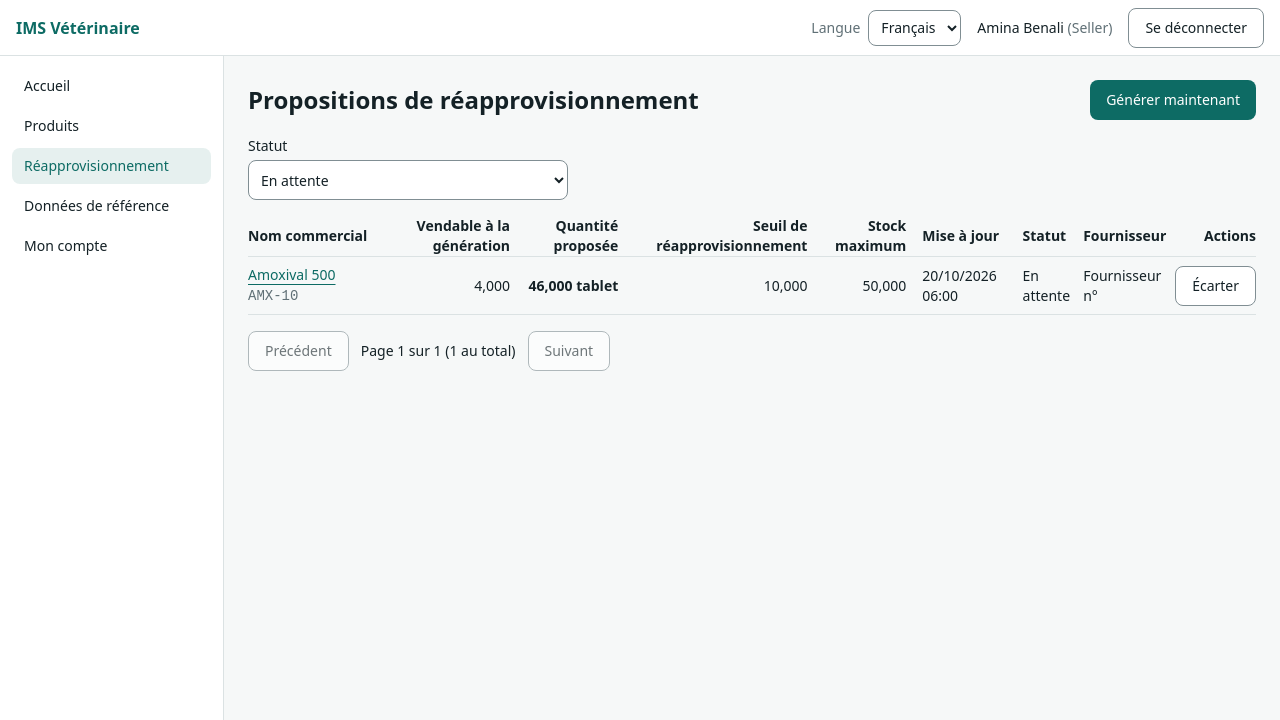
Test: reorder proposals (W10) › generates now, reports incomplete thresholds and dismisses a proposal
Expected: the row "Amoxival 500" shows "46,000 tablet", x1=528 y1=276 x2=618 y2=294
What coordinates should you click on to do the following:
click the button "Générer maintenant"
I would click on:
 (1173, 100)
Its box is x1=1090 y1=80 x2=1256 y2=120.
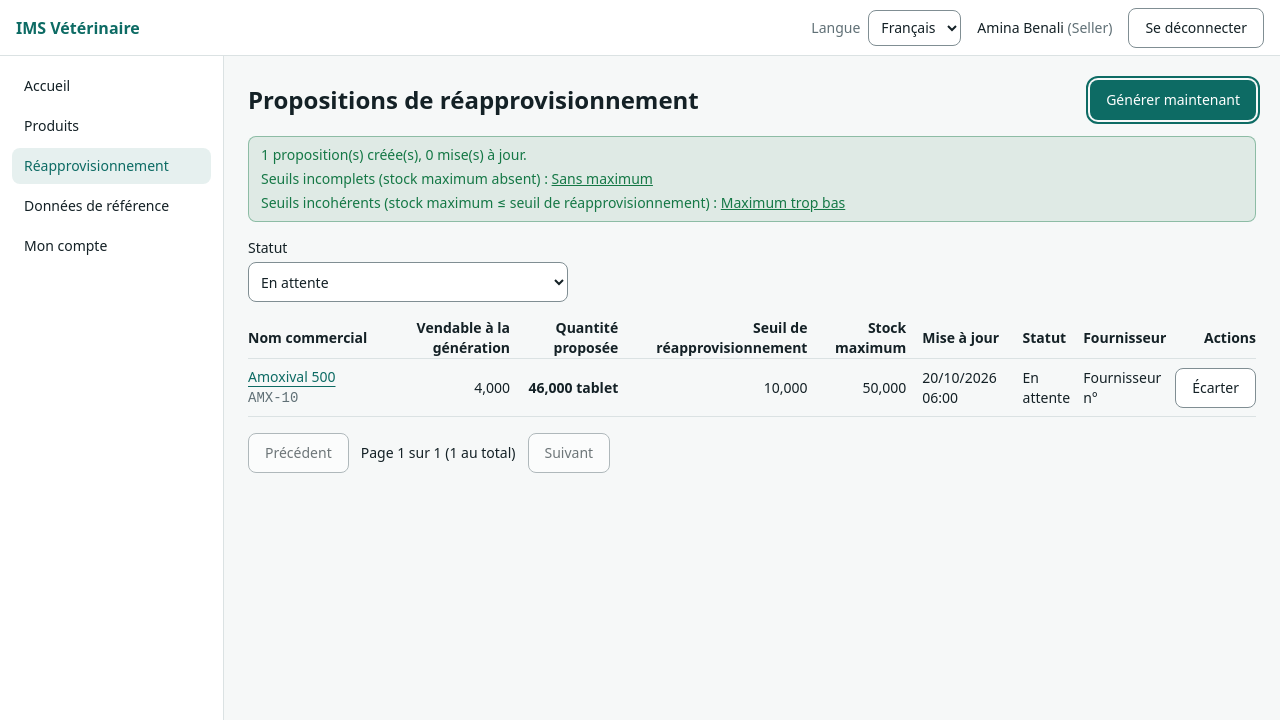
Expected: the text "1 proposition(s) créée(s), 0 mise(s) à jour." is shown, x1=261 y1=145 x2=527 y2=164
What coordinates should you click on to do the following:
click the button with aria-label "Écarter la proposition pour Amoxival 500"
I would click on:
 (1216, 388)
Its box is x1=1175 y1=368 x2=1256 y2=408.
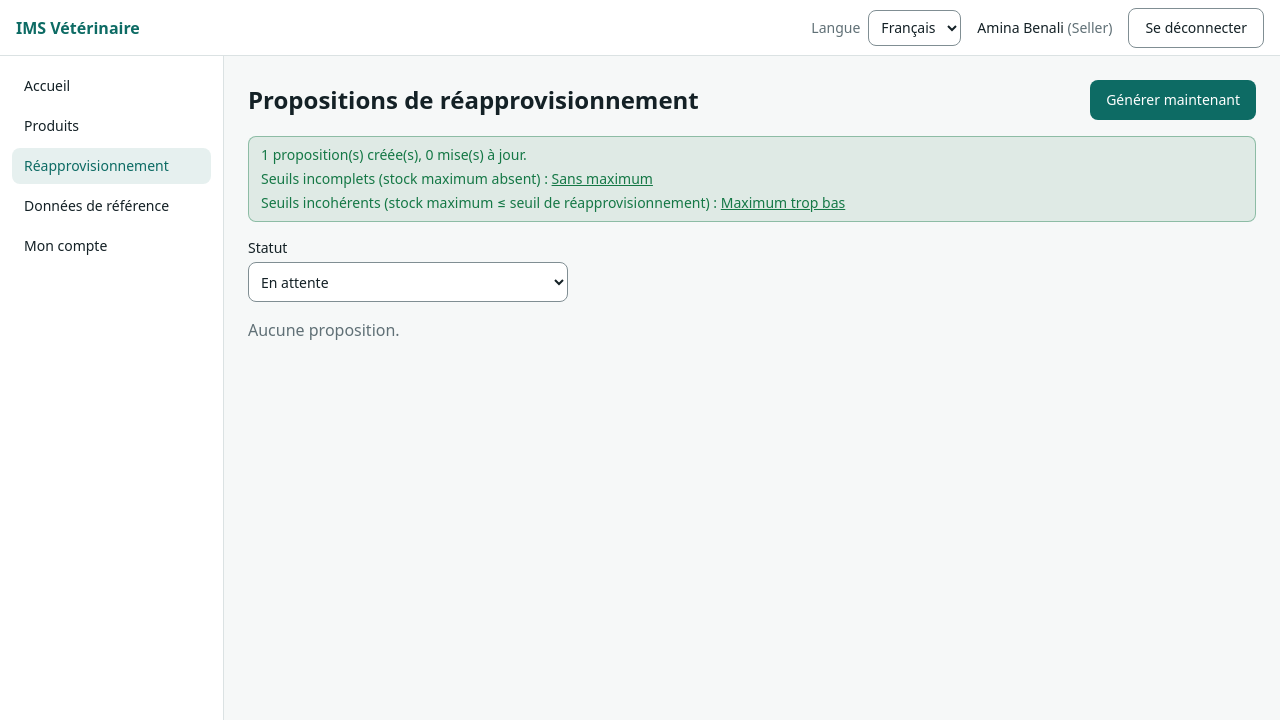
Expected: the text "Aucune proposition." is shown, x1=248 y1=319 x2=400 y2=341
